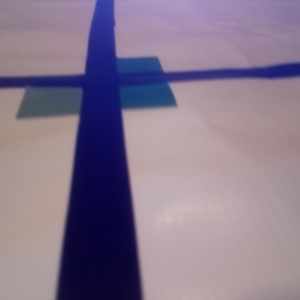bottom_right: (106, 31, 191, 64)
top_right: (32, 135, 167, 227)
